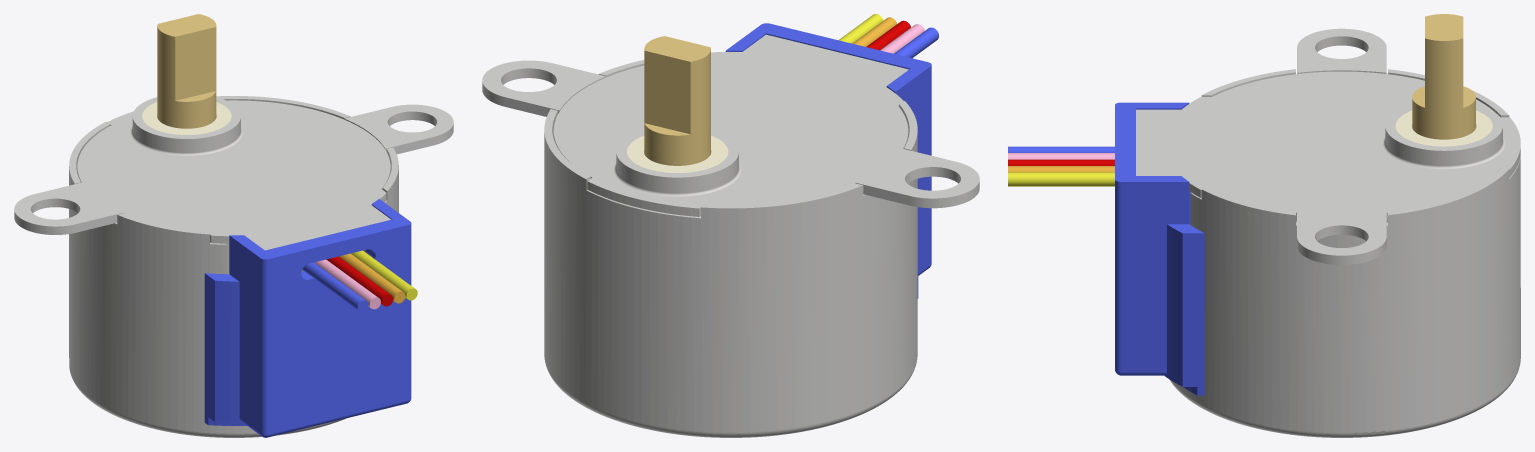
Rendered from stepper_28byj48.glb.
The picture shows the model from 3 angles, left to right: view 1: azimuth 30°, elevation 25°; view 2: azimuth 150°, elevation 25°; view 3: azimuth 270°, elevation 25°; orthographic projection. The views are drawn at different scales.
Visible parts, largest first — view 1: Node2, Node5, Node4, Node3, Node6, Node8, Node7, Node9; view 2: Node2, Node4, Node5, Node3, Node8, Node6, Node9, Node7; view 3: Node2, Node5, Node4, Node9, Node3, Node6, Node7, Node8.
Part boxes in pixels (x1,y1,x2,y2): Node2: [14, 96, 453, 437]; Node5: [204, 199, 411, 437]; Node4: [157, 14, 216, 128]; Node3: [142, 102, 231, 134]; Node6: [314, 259, 380, 309]; Node8: [339, 253, 405, 303]; Node7: [326, 256, 393, 306]; Node9: [351, 250, 417, 300]; Node2: [482, 34, 979, 437]; Node4: [644, 36, 710, 165]; Node5: [725, 23, 938, 298]; Node3: [627, 135, 728, 172]; Node8: [852, 17, 896, 46]; Node6: [880, 24, 924, 53]; Node9: [838, 14, 883, 43]; Node7: [866, 20, 910, 50]; Node2: [1136, 28, 1520, 437]; Node5: [1008, 102, 1204, 395]; Node4: [1412, 14, 1475, 139]; Node9: [1008, 172, 1114, 186]; Node3: [1395, 110, 1492, 146]; Node6: [1008, 153, 1114, 159]; Node7: [1008, 159, 1114, 165]; Node8: [1008, 166, 1114, 172].
Bounding box in the file's own units: 42 × 29.2 × 40.1.
